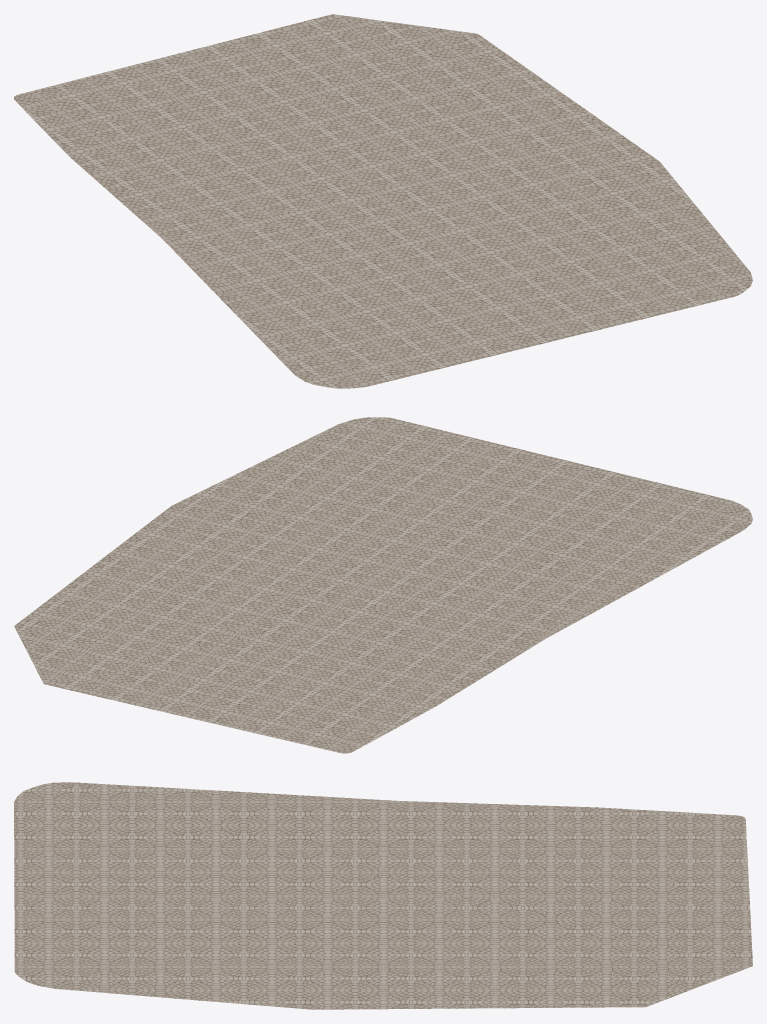
3 views of the same model, one above another, from view 1: azimuth 30°, elevation 25°; view 2: azimuth 150°, elevation 25°; view 3: azimuth 270°, elevation 25° (orthographic). The views are drawn at different scales.
Visible parts, largest first — view 1: wl-line1865; view 2: wl-line1865; view 3: wl-line1865.
Boxes of the visible parts, box(x1,y1,x2,y2) form: wl-line1865: box(14, 14, 752, 388); wl-line1865: box(14, 417, 752, 753); wl-line1865: box(14, 782, 752, 1009).
Size of the model in its own units: 14477 by 5.63e-12 by 19876.
Materials: 1 (1 with a texture image).
